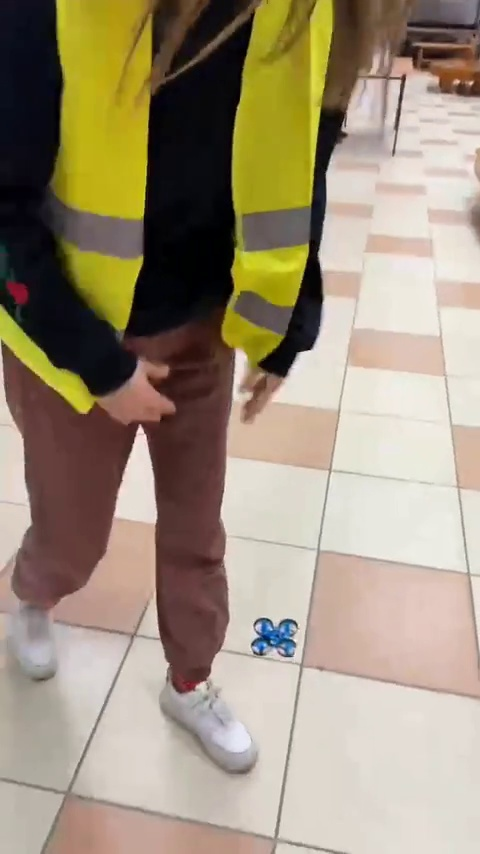drone: (248, 617, 303, 662)
vest: (3, 1, 342, 780)
